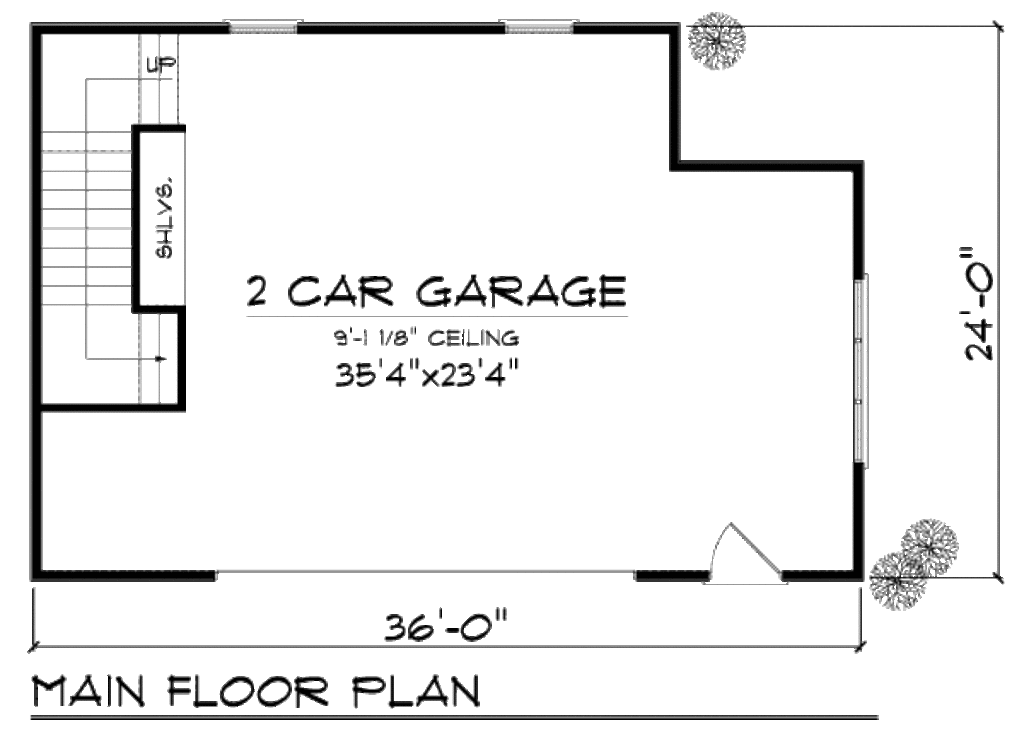door: (691, 521, 798, 595)
stairs: (32, 26, 215, 425)
window: (854, 270, 877, 470), (228, 15, 303, 38), (494, 17, 577, 34)
